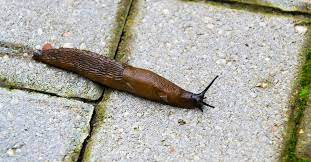slug: (31, 49, 217, 112)
